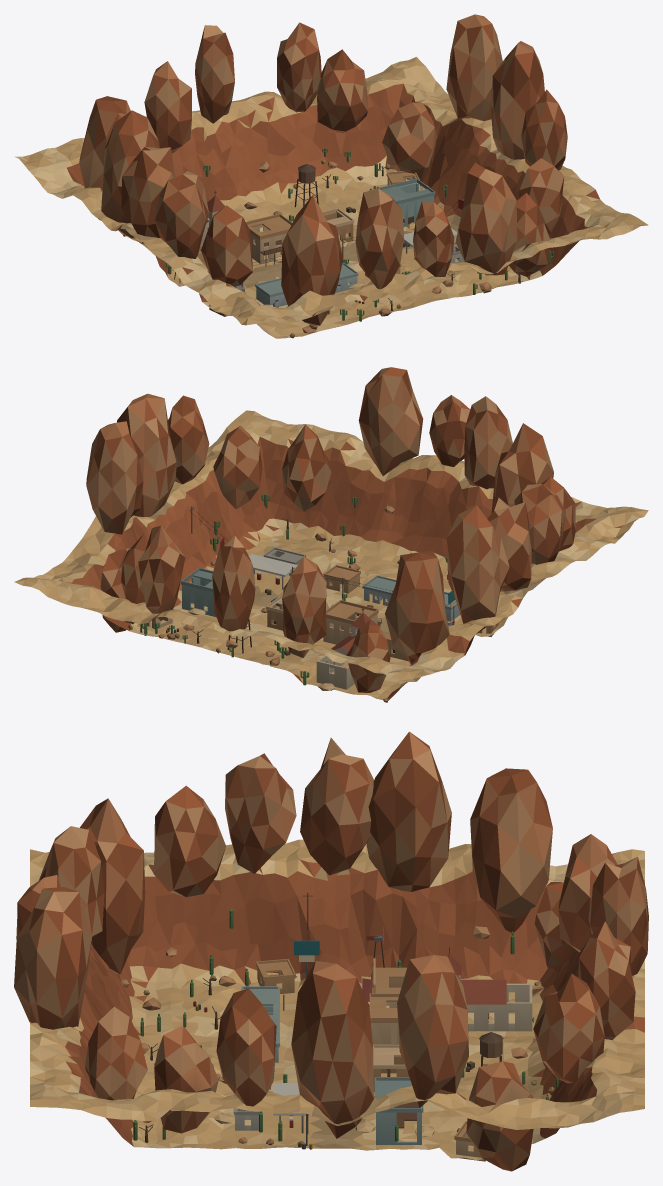
File: desert_town.glb
3 views of the same model, one above another, from view 1: azimuth 30°, elevation 25°; view 2: azimuth 150°, elevation 25°; view 3: azimuth 270°, elevation 25° (orthographic). The views are drawn at different scales.
Parts seen in each view (by area): view 1: Map_Static; view 2: Map_Static; view 3: Map_Static.
Part boxes in pixels (box(x1,y1,x2,y2)): Map_Static: box(15, 14, 648, 338); Map_Static: box(14, 367, 648, 702); Map_Static: box(14, 731, 648, 1171).
Bounding box in the file's own units: 123 × 51.26 × 124.
